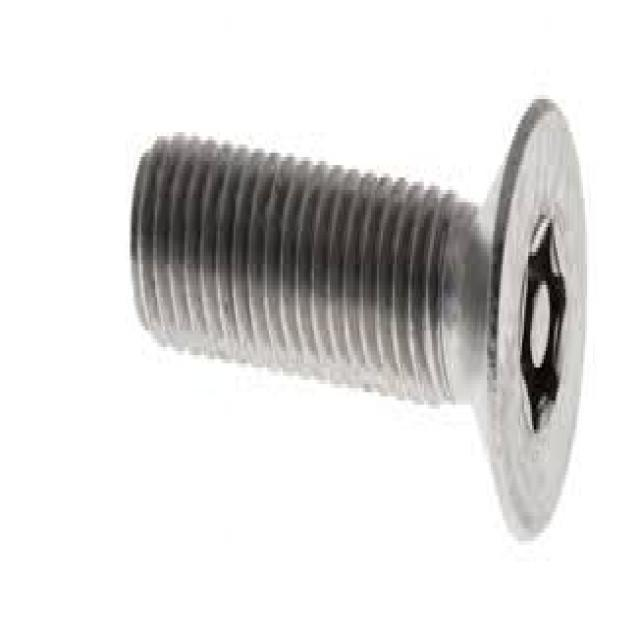Dry Waste: (130, 108, 605, 547)
